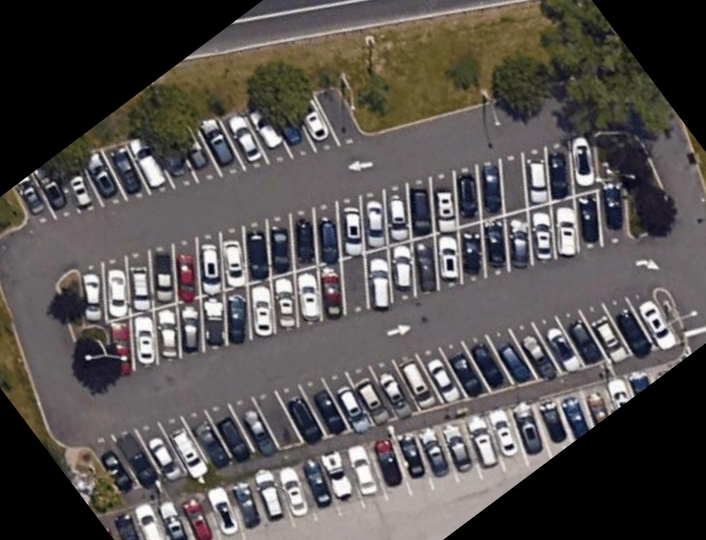parkingspot: (75, 127, 631, 390), (79, 287, 683, 499), (96, 362, 676, 540), (10, 84, 370, 229)
